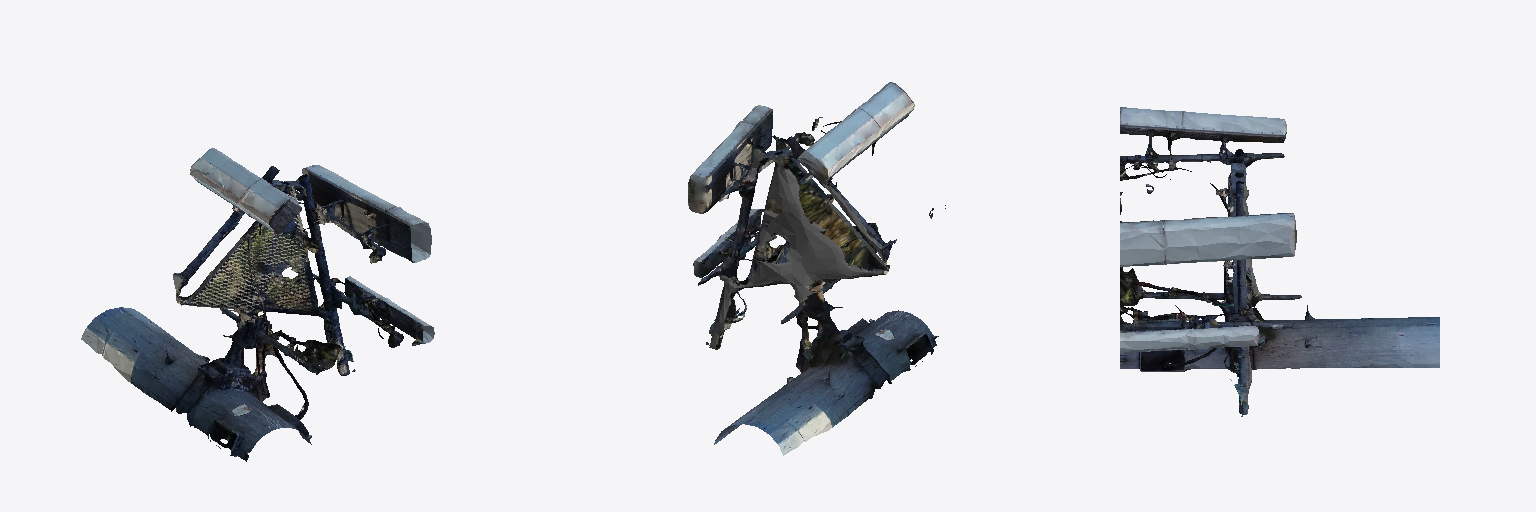
3 renders of one model, left to right at view 1: azimuth 30°, elevation 25°; view 2: azimuth 150°, elevation 25°; view 3: azimuth 270°, elevation 25°, orthographic.
Bounding box in the file's own units: 2.02 × 2.47 × 2.83.
2 materials, 1 textured.